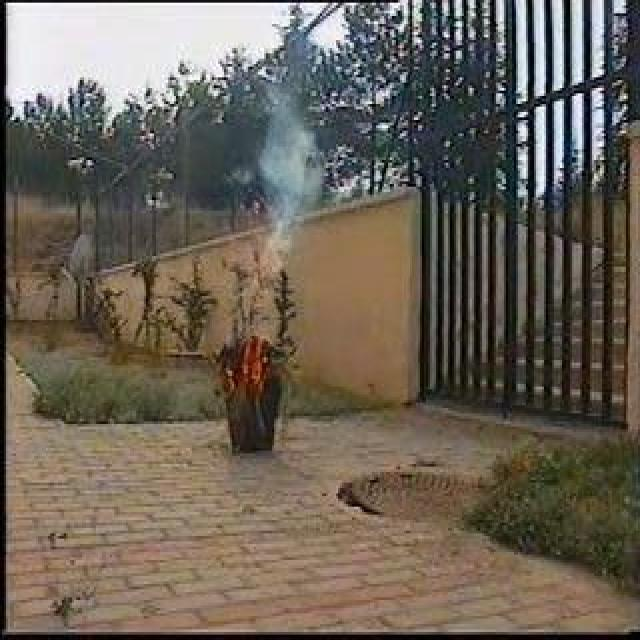Fire: (233, 334, 271, 382)
